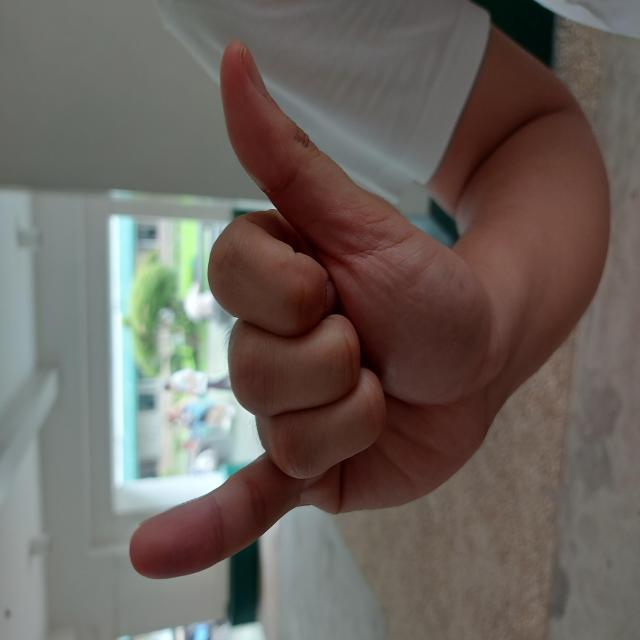Y: (58, 129, 606, 490)
